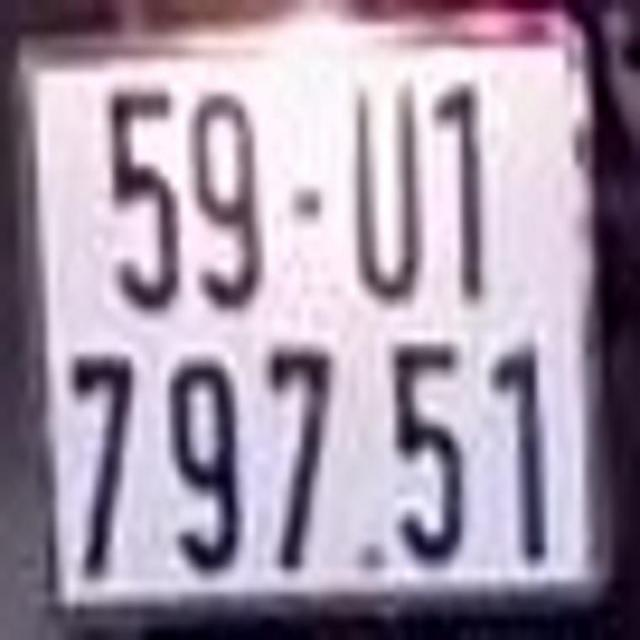1: (486, 349, 552, 556), (426, 82, 489, 296)
5: (381, 339, 470, 556), (108, 86, 186, 302)
7: (69, 350, 142, 574), (260, 344, 331, 562)
9: (161, 350, 247, 568), (191, 91, 266, 306)
U: (348, 83, 423, 296)
